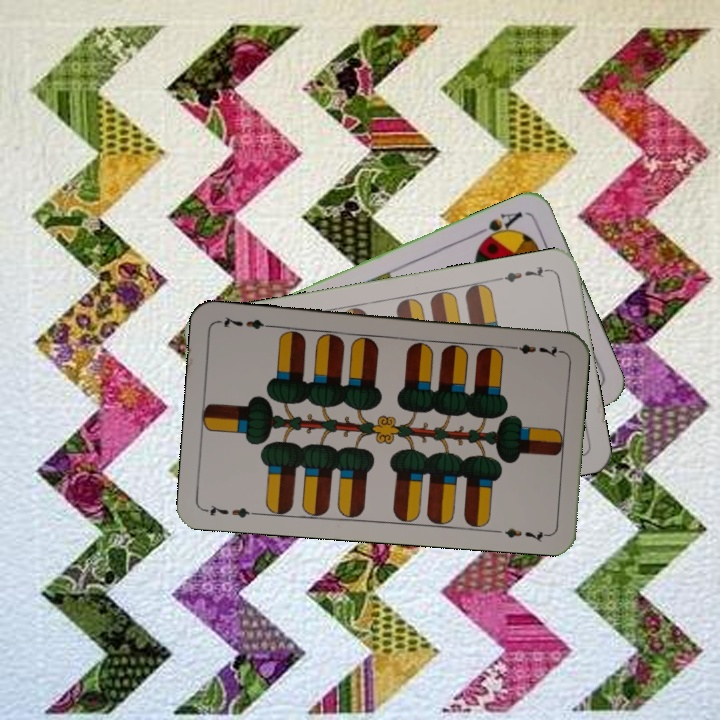E7: (494, 262, 552, 285), (504, 340, 563, 361), (201, 501, 260, 520)
SA: (472, 207, 526, 247)
